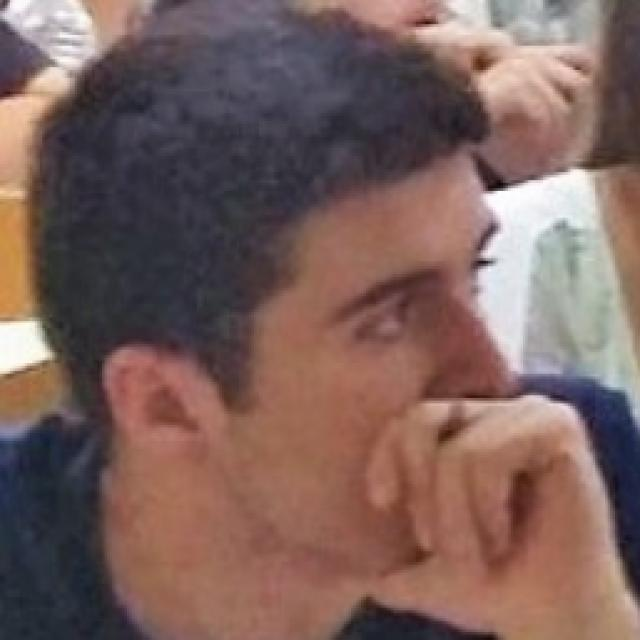Distracted: (213, 146, 516, 566)
